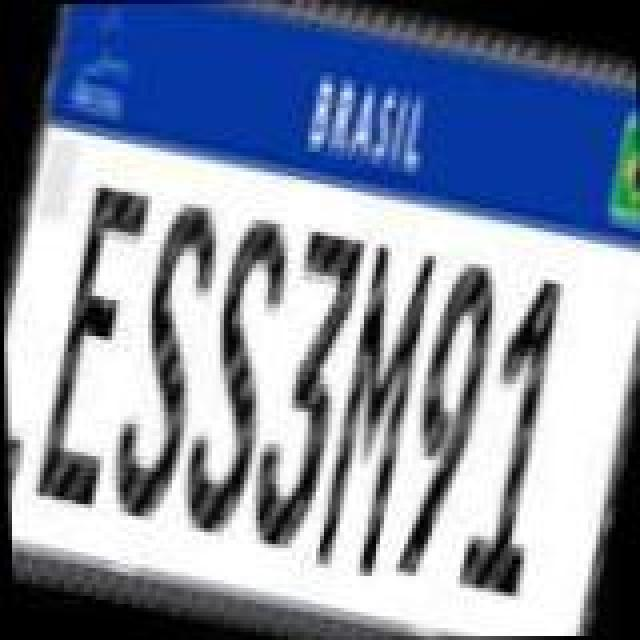1: (448, 266, 592, 606)
3: (230, 224, 374, 560)
9: (376, 252, 516, 592)
E: (20, 178, 164, 518)
M: (304, 246, 444, 586)
S: (164, 208, 308, 548), (92, 190, 236, 526)
